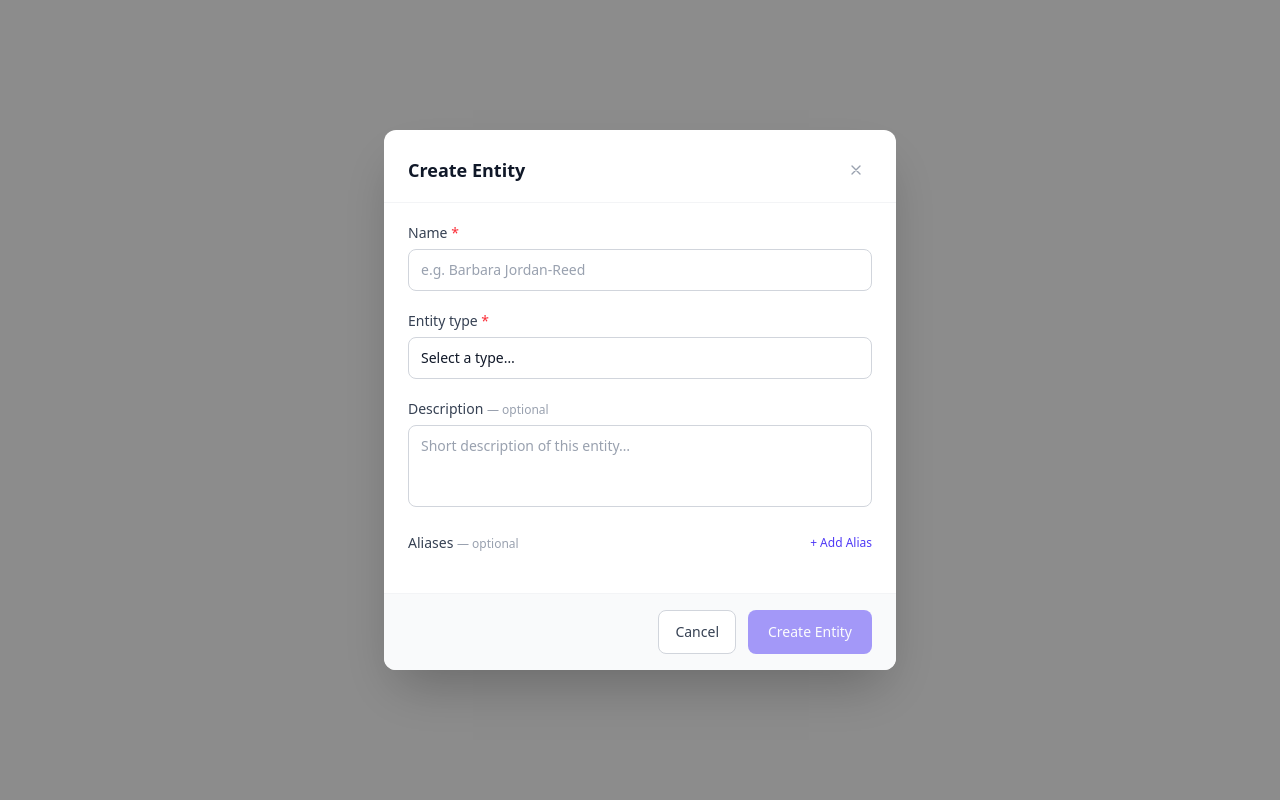
Test: CreateEntityModal — suggested entity type (Feature 098, US3) › pre-selects the suggested type when a candidate is grounded
In the dropdown labelled "Name *": (640, 270) [408,249,872,291], type "Test Person"
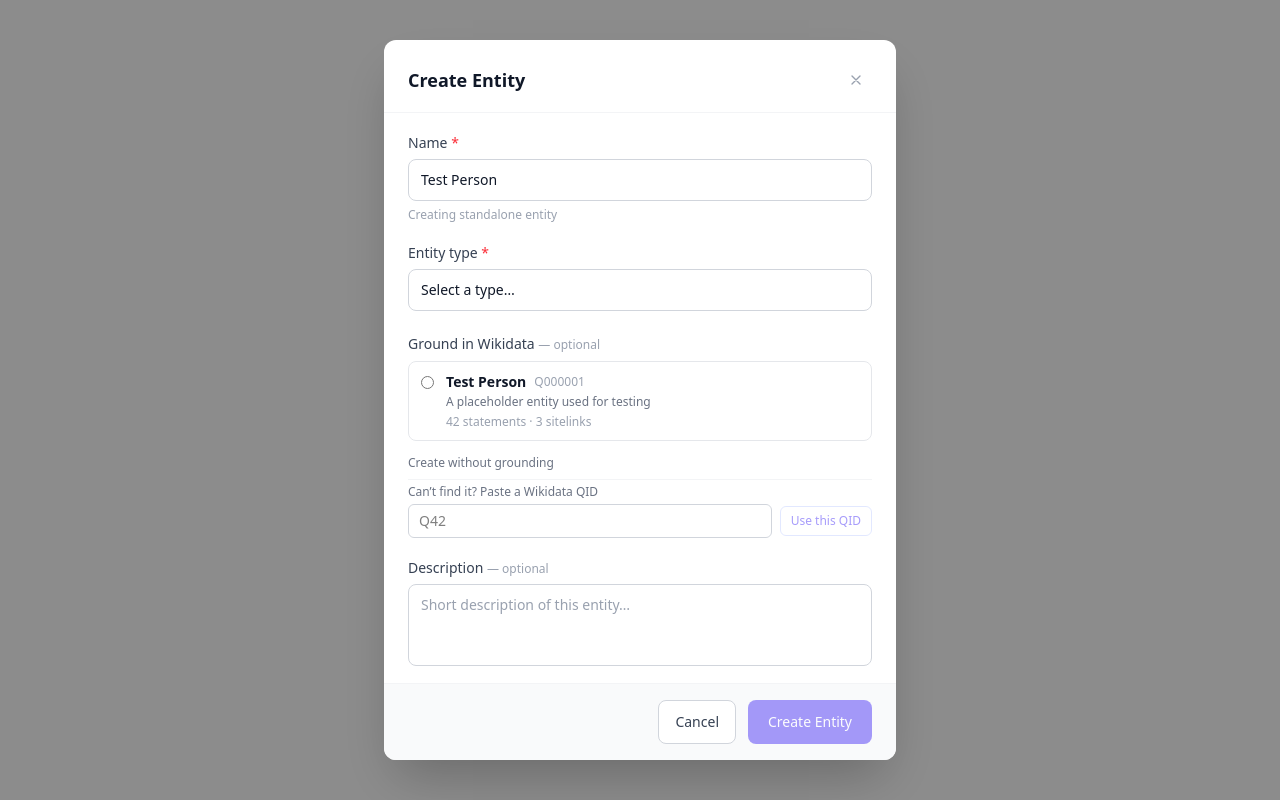
Click the radio button: click(428, 382) [421,376,434,389]
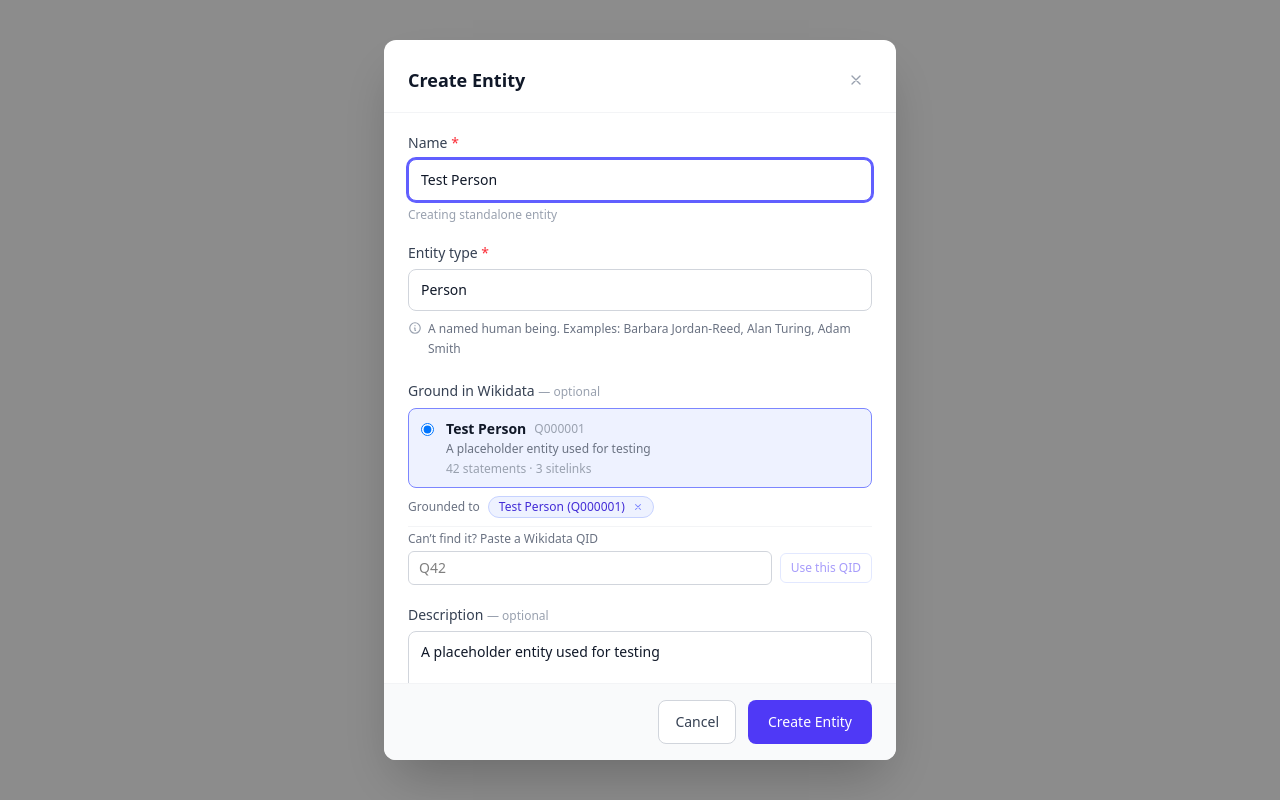
Now the dropdown labelled "Entity type *" shows "Person", box [408,269,872,311]
Now the text "Grounded to" is shown, box [408,499,480,515]
